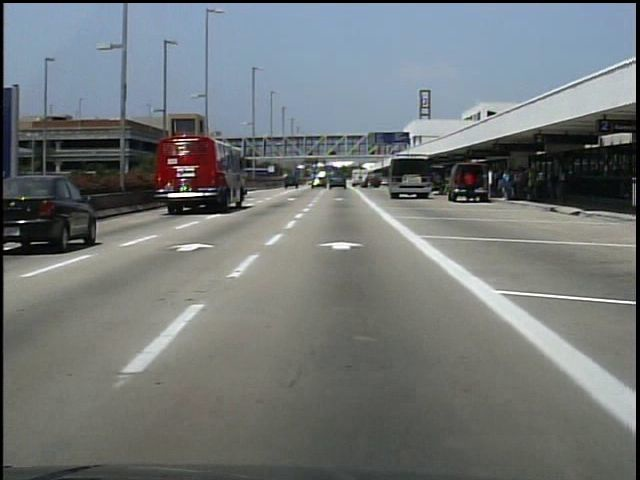person: (464, 165, 480, 204)
